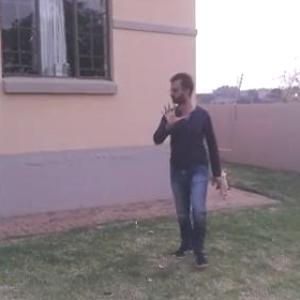follow_hand: (158, 99, 186, 130)
